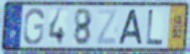4: (48, 7, 67, 48)
8: (73, 7, 93, 47)
A: (116, 8, 144, 46)
G: (22, 7, 46, 46)
L: (145, 8, 165, 46)
Z: (95, 8, 120, 46)
